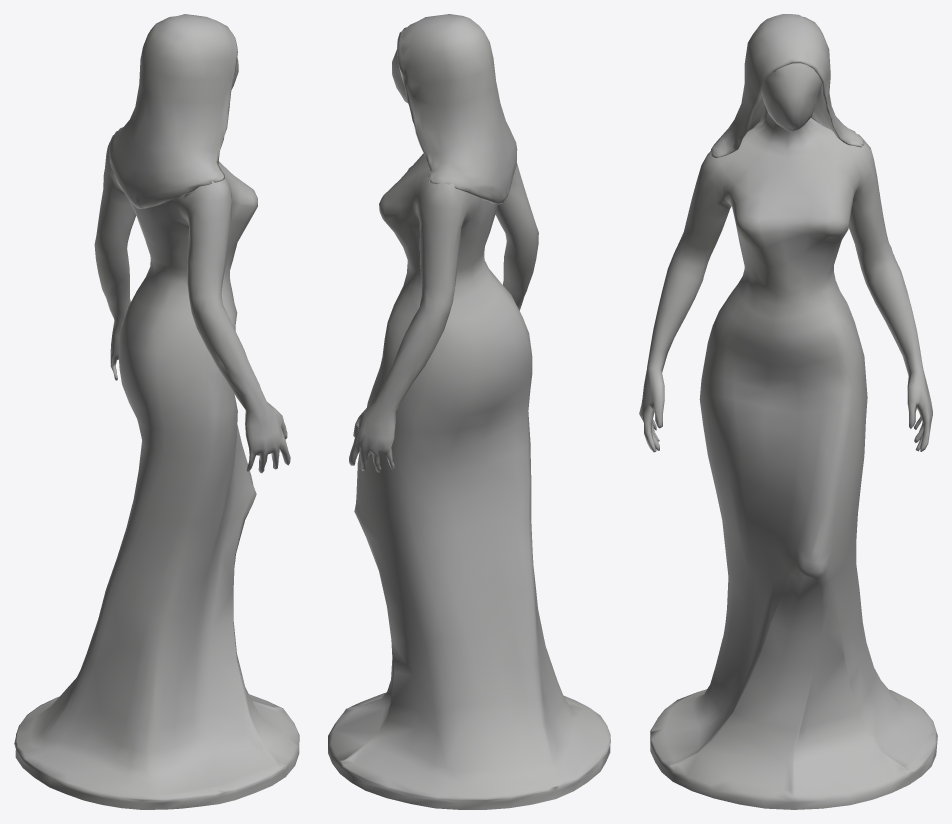
Rendered from min9ta.glb.
The picture shows the model from 3 angles, left to right: view 1: azimuth 30°, elevation 25°; view 2: azimuth 150°, elevation 25°; view 3: azimuth 270°, elevation 25°; orthographic projection. The views are drawn at different scales.
Parts seen in each view (by area): view 1: Model; view 2: Model; view 3: Model.
Boxes of the visible parts, x1,y1,x2,y2 form: Model: (14,14,299,809); Model: (328,14,610,809); Model: (639,14,937,809).
Bounding box in the file's own units: 0.3535 × 0.998 × 0.3652.
1 material, 1 textured.
